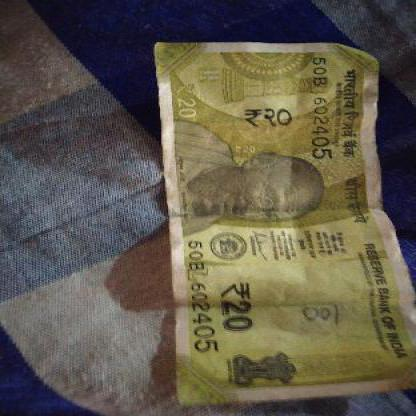New20Front: (158, 43, 414, 392)
